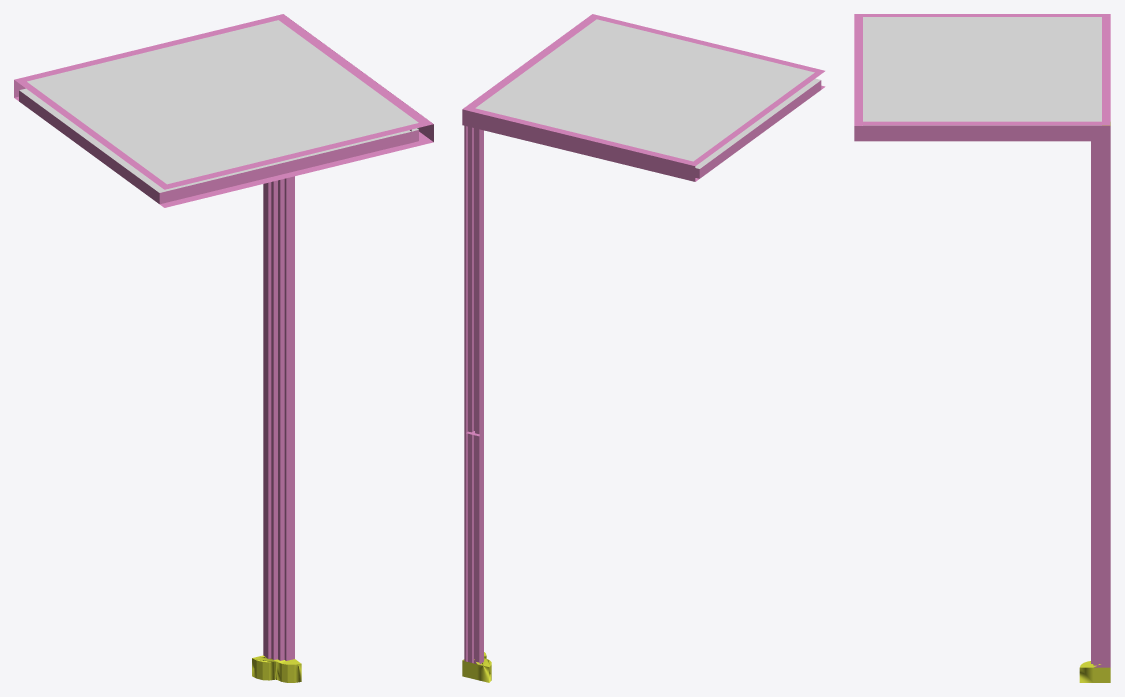
File: Wall Corner Out.fbx
The picture shows the model from 3 angles, left to right: view 1: azimuth 30°, elevation 25°; view 2: azimuth 150°, elevation 25°; view 3: azimuth 270°, elevation 25°; orthographic projection. The views are drawn at different scales.
Visible parts, largest first — view 1: Cube.005; view 2: Cube.005; view 3: Cube.005.
Part boxes in pixels (x1=…): Cube.005: x1=14, y1=14, x2=433, y2=682; Cube.005: x1=462, y1=14, x2=825, y2=682; Cube.005: x1=854, y1=14, x2=1110, y2=682.
Bounding box in the file's own units: 3.1 × 7.2 × 3.
